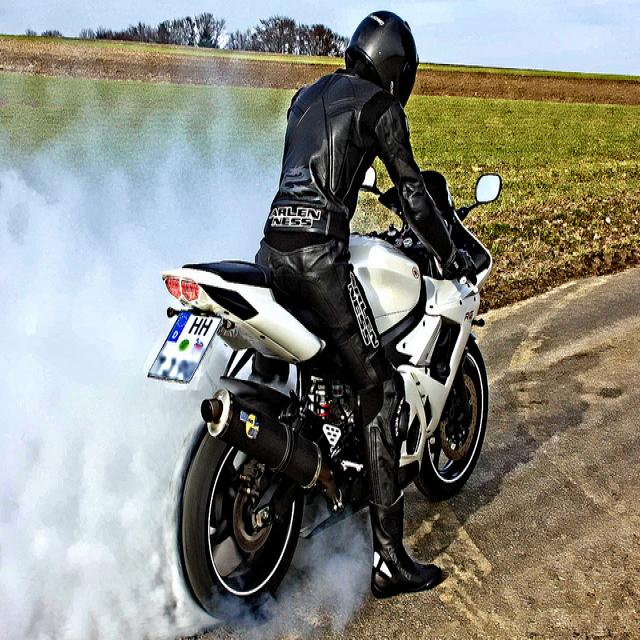motor: (146, 164, 504, 622)
